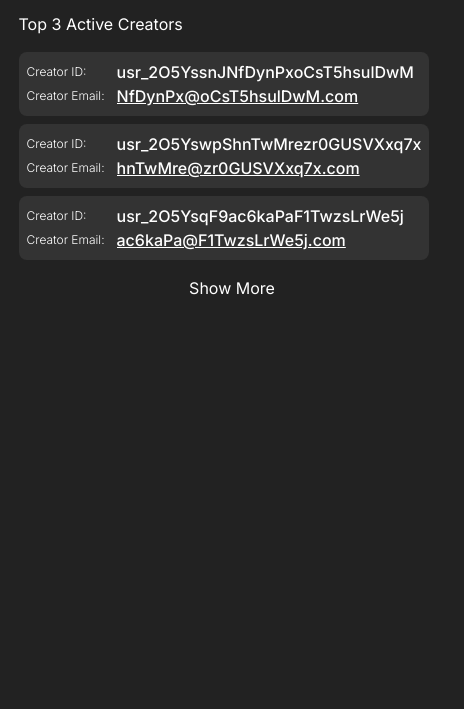
Scenario: Page › renders more/less creators
Expected: the text "usr_2O5YssnJNfDynPxoCsT5hsulDwM" is shown, x1=116 y1=60 x2=421 y2=84
Click the button "Show More". click: (232, 288)
box: x1=18 y1=276 x2=445 y2=300
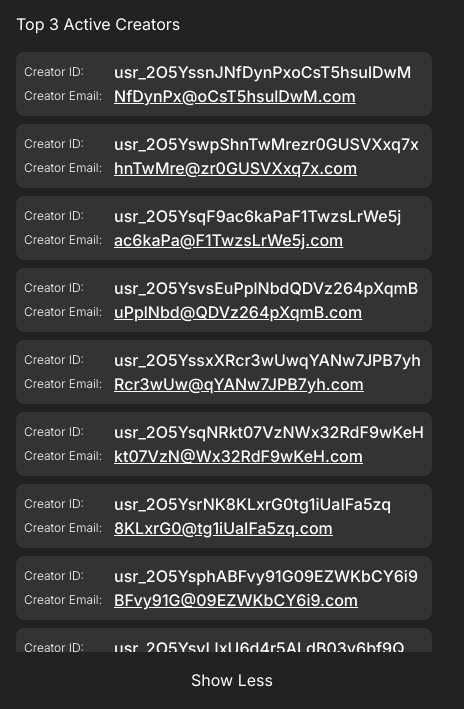
Expected: the text "usr_2O5YsvsEuPplNbdQDVz264pXqmB" is shown, x1=114 y1=276 x2=424 y2=300
Expected: the link "uPplNbd@QDVz264pXqmB.com" is shown, x1=114 y1=302 x2=362 y2=322
Expected: the text "usr_2O5YssxXRcr3wUwqYANw7JPB7yh" is shown, x1=114 y1=348 x2=424 y2=372
Click the button "Show Less". click: (232, 680)
box: x1=16 y1=668 x2=448 y2=692
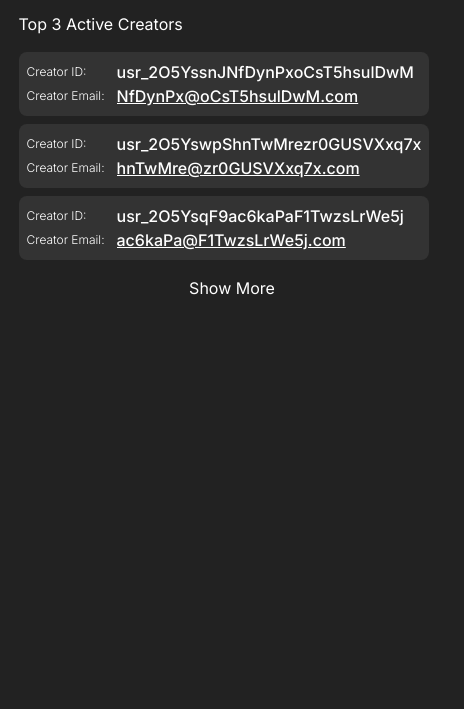
Expected: the text "usr_2O5YsvsEuPplNbdQDVz264pXqmB" is gone
Expected: the link "uPplNbd@QDVz264pXqmB.com" is gone
Expected: the text "usr_2O5YssxXRcr3wUwqYANw7JPB7yh" is gone
